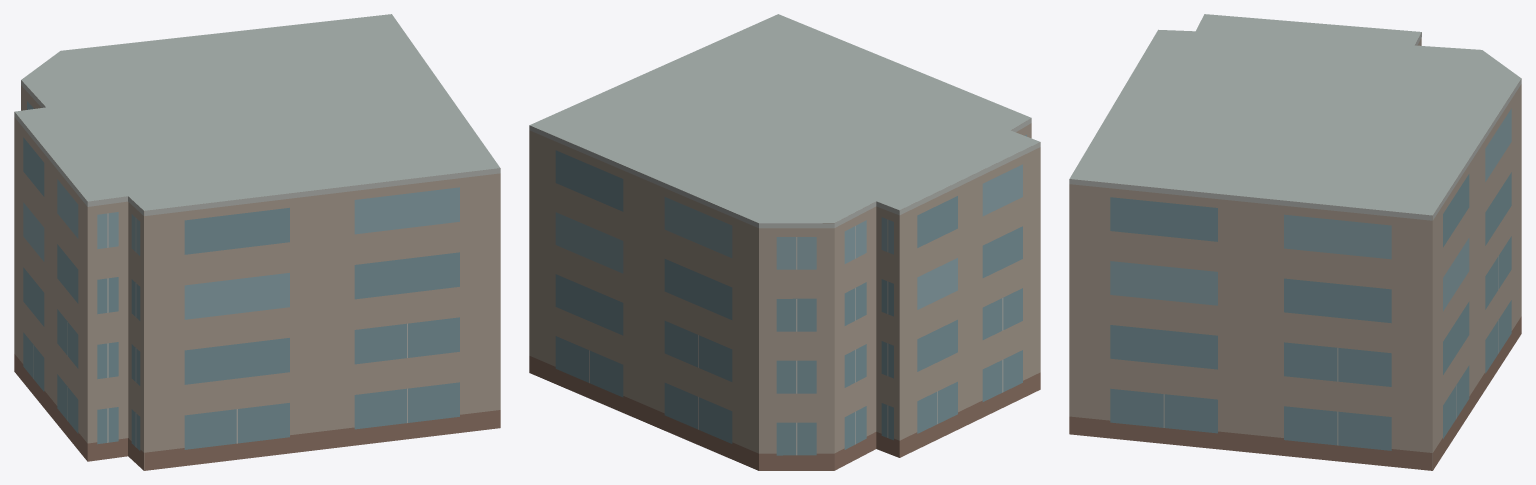
File: survey-upis-32679095.glb
The picture shows the model from 3 angles, left to right: view 1: azimuth 30°, elevation 25°; view 2: azimuth 150°, elevation 25°; view 3: azimuth 270°, elevation 25°; orthographic projection. The views are drawn at different scales.
Parts seen in each view (by area): view 1: survey-upis-32679095.tmp; view 2: survey-upis-32679095.tmp; view 3: survey-upis-32679095.tmp.
Part boxes in pixels (x1=…): survey-upis-32679095.tmp: x1=14, y1=14, x2=500, y2=470; survey-upis-32679095.tmp: x1=529, y1=14, x2=1040, y2=470; survey-upis-32679095.tmp: x1=1069, y1=14, x2=1521, y2=470.
Bounding box in the file's own units: 20.15 × 11.9 × 19.1.
